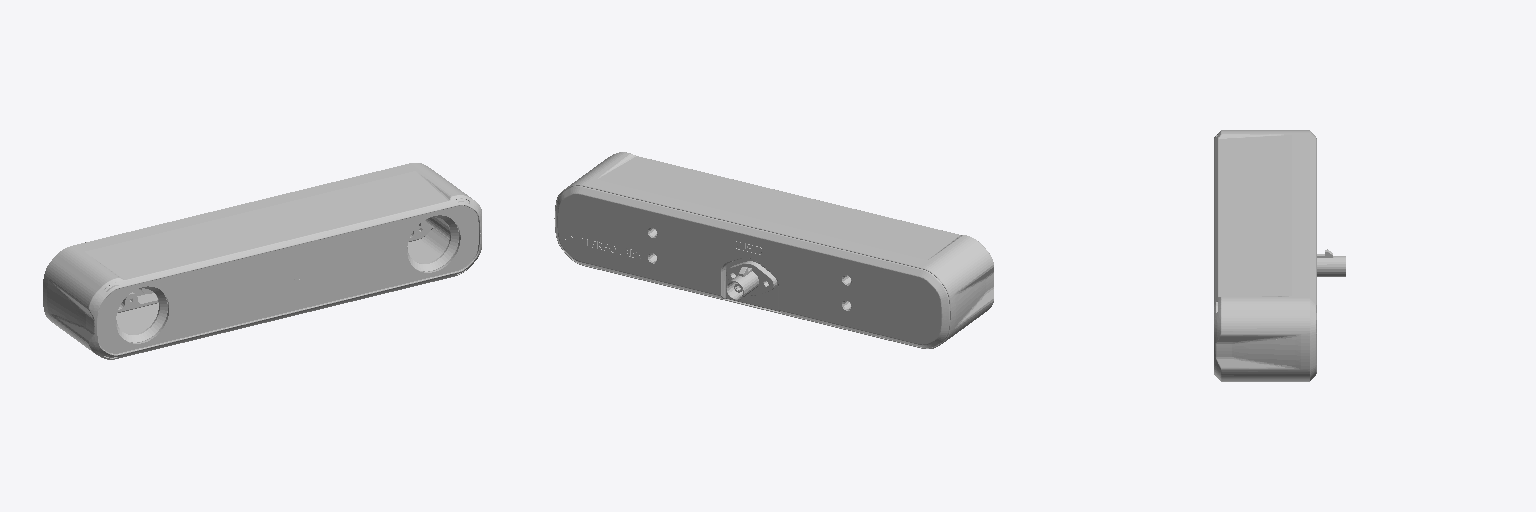
Rendered from ZED_X_mesh.obj.
The picture shows the model from 3 angles: view 1: azimuth 30°, elevation 25°; view 2: azimuth 150°, elevation 25°; view 3: azimuth 270°, elevation 25°; orthographic projection.
Bounding box in the file's own units: 0.1636 × 0.0318 × 0.0472.